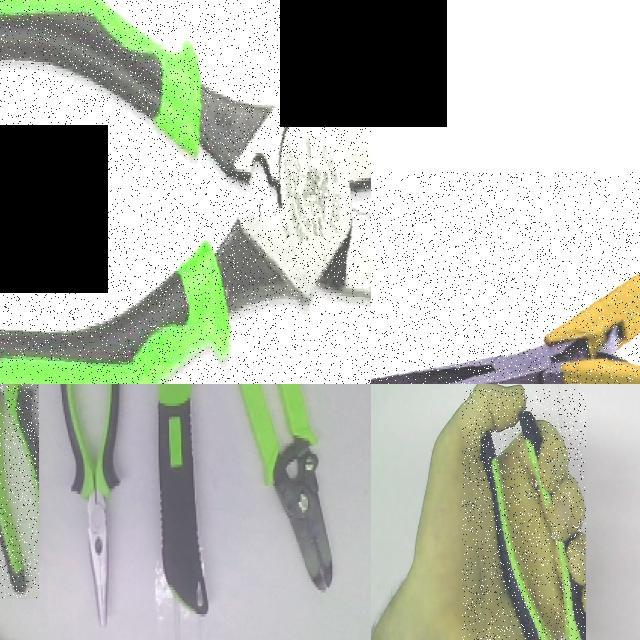estilete: (158, 386, 207, 614)
